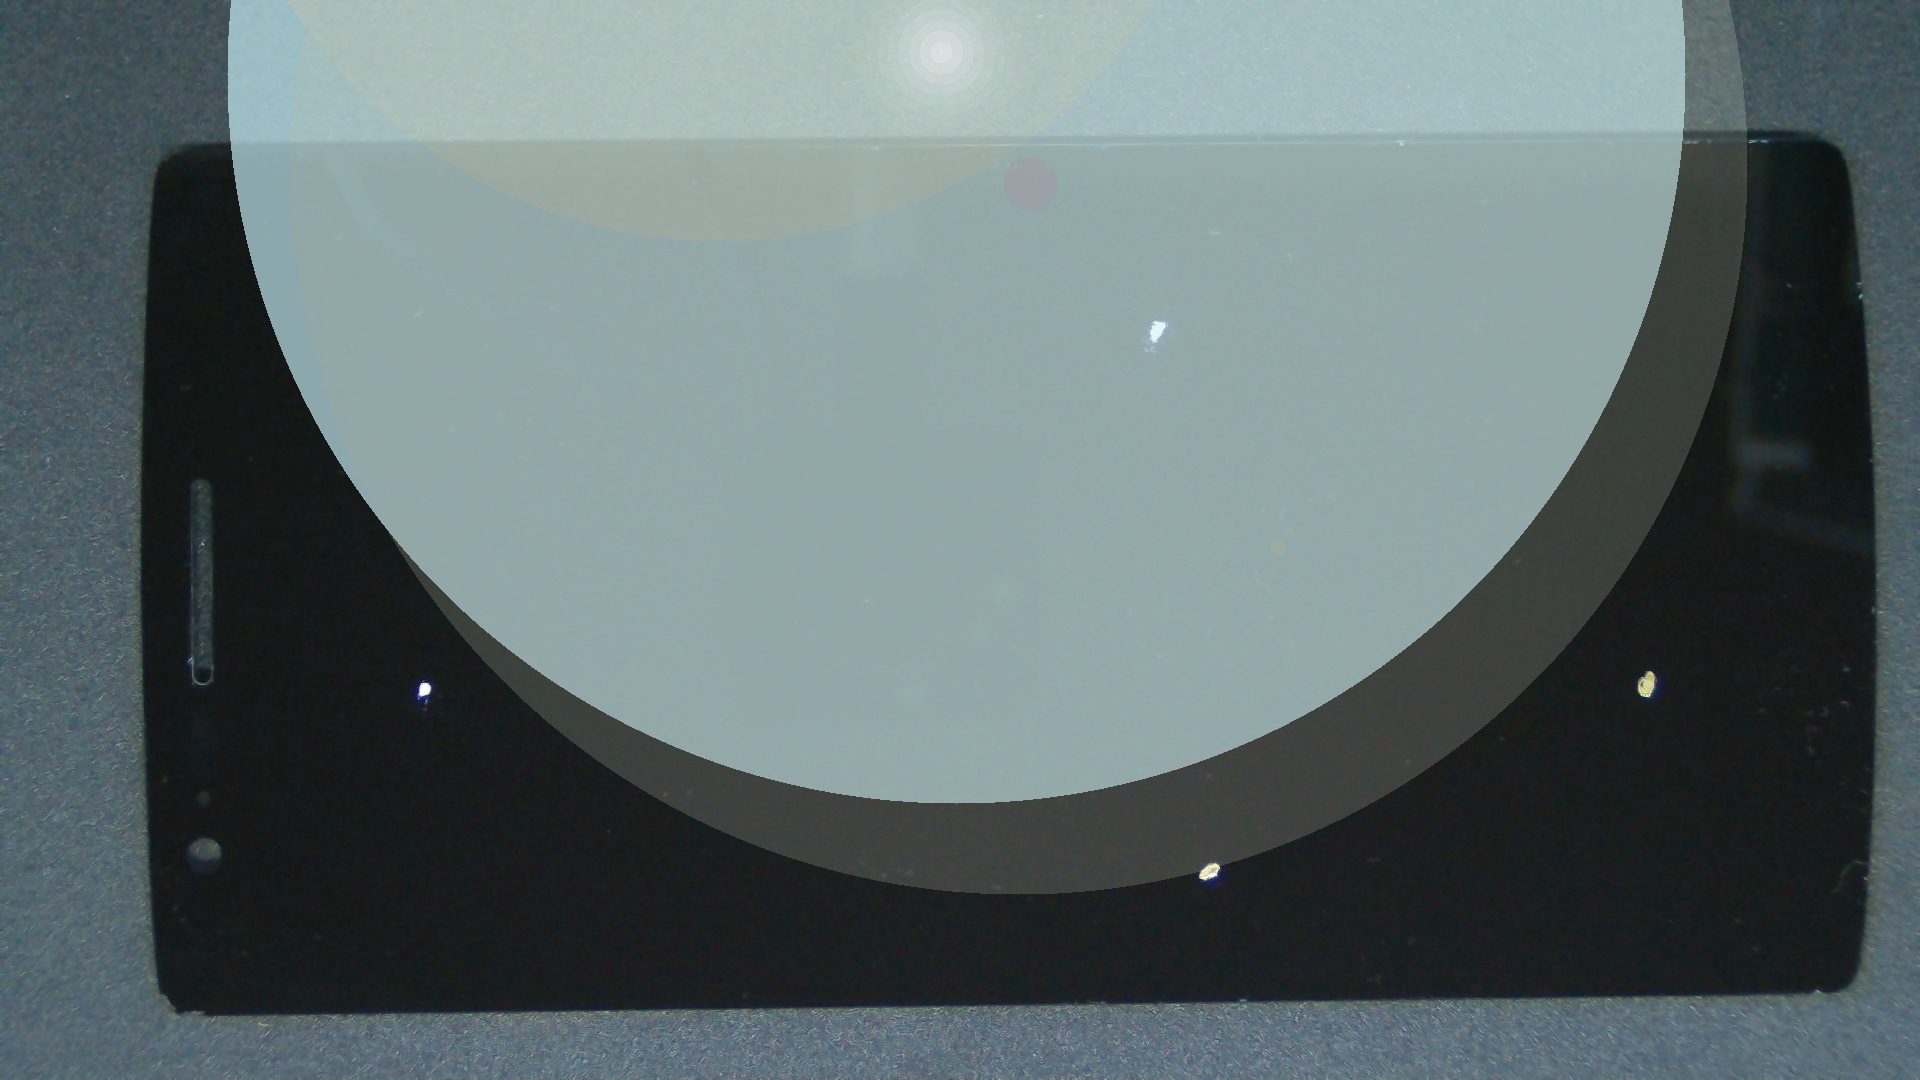oil: (604, 429, 1805, 1080), (828, 330, 1920, 1004), (578, 160, 1731, 479), (215, 339, 644, 1019)
